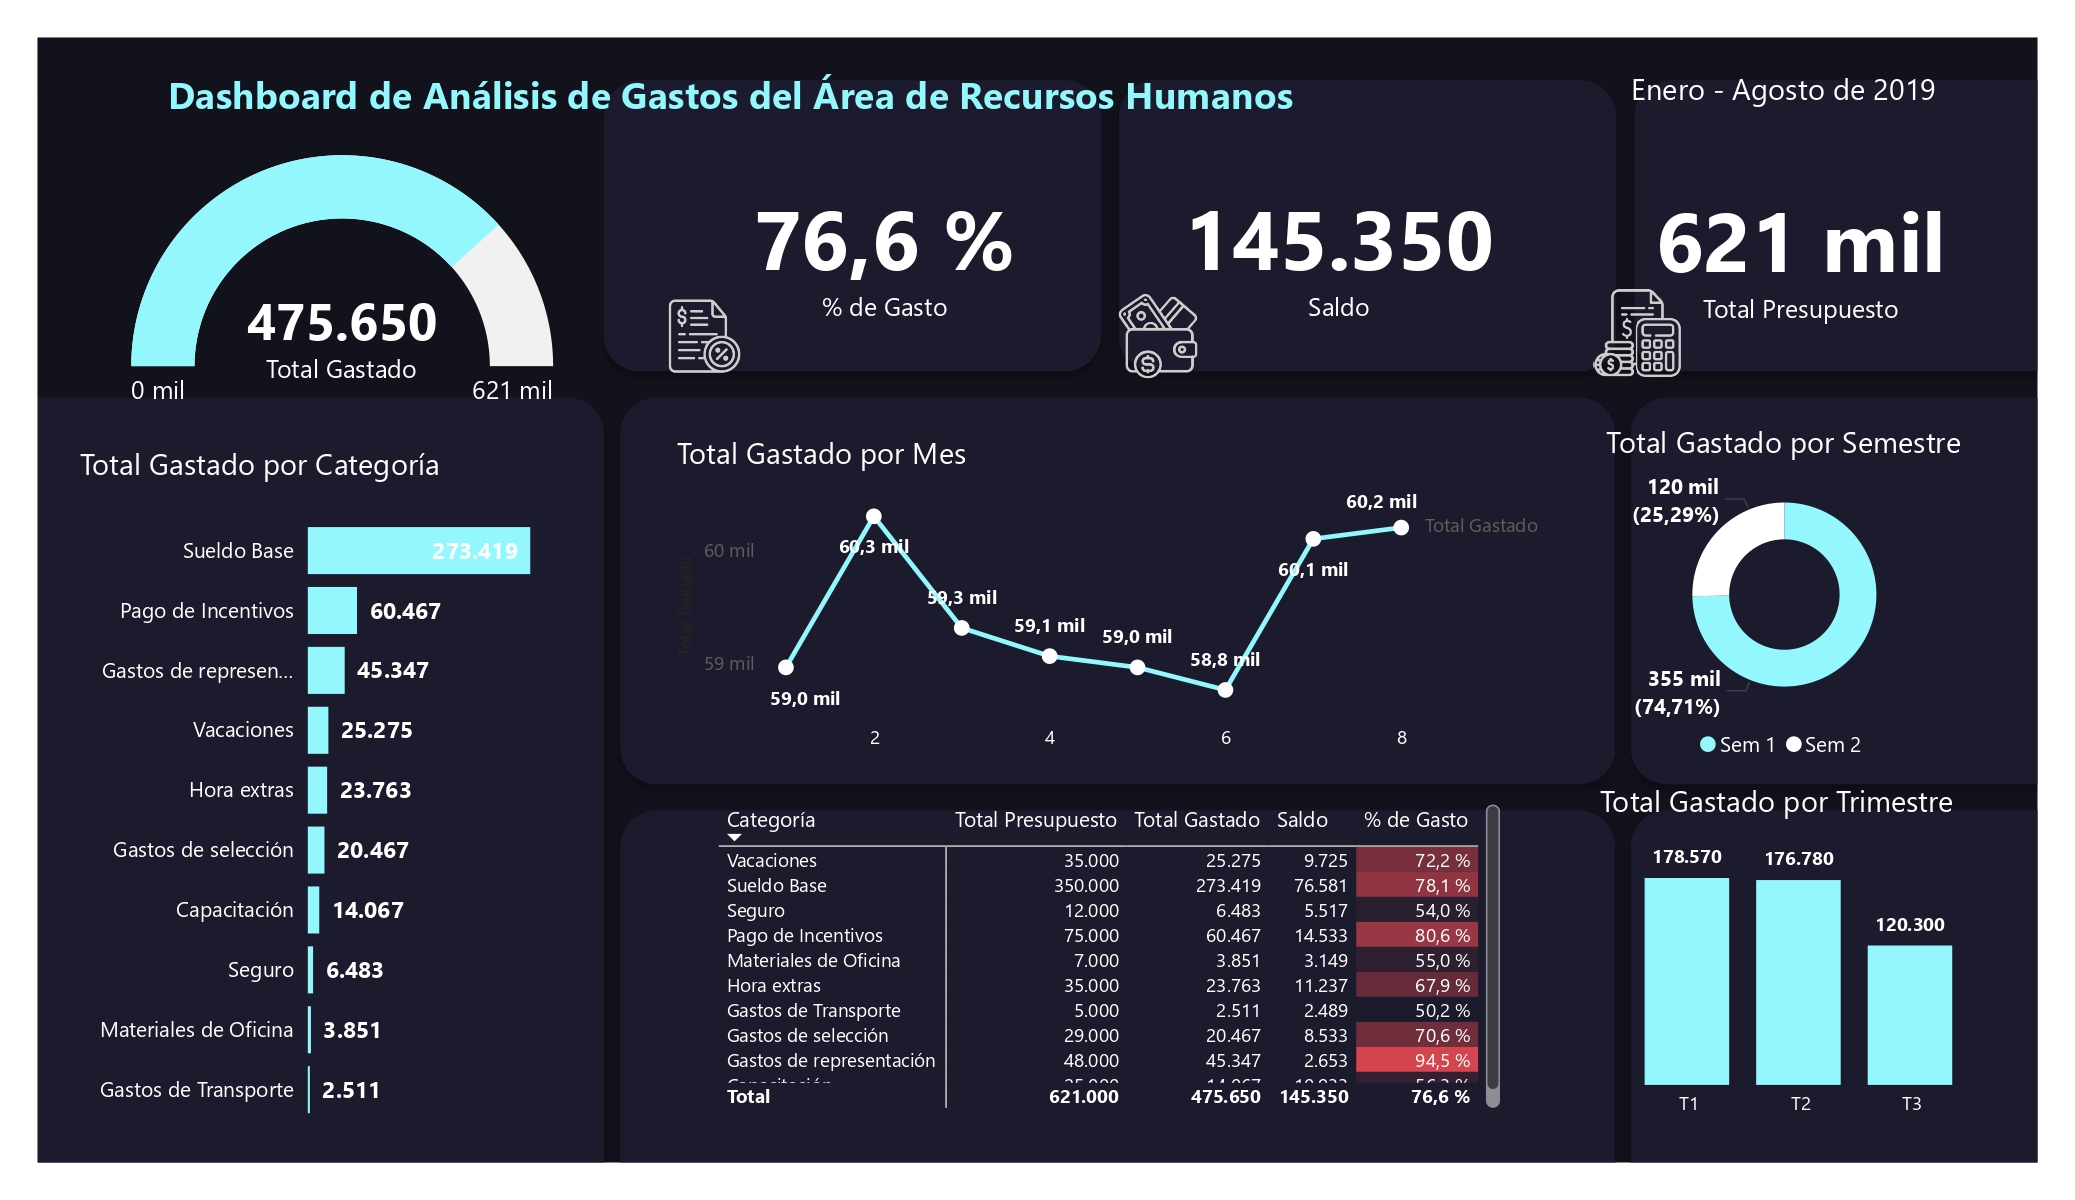

The page's visual inventory and layout, read from the dashboard file:
{"tool":"powerbi","page":{"name":"Panel","canvas":[1280,720],"ordinal":0},"visuals":[{"type":"gauge","fields":{"Y":["Gastos1.Total Gastado"],"MaxValue":["Presupuesto2.Total Presupuesto"]},"box":[55.3,70.4,279.6,177],"z":0},{"type":"textbox","box":[133.8,196.1,121.7,33.2],"z":1000},{"type":"card","fields":{"Values":["Gastos1.% de Gasto"]},"box":[443.5,61.4,196.1,151.9],"z":2000},{"type":"image","box":[392.3,159,69.2,64.1],"z":3000},{"type":"card","fields":{"Values":["Gastos1.Saldo"]},"box":[716.4,60.9,234,151.6],"z":4000},{"type":"image","box":[683.3,157.7,66.7,66.7],"z":5000},{"type":"card","fields":{"Values":["Presupuesto2.Total Presupuesto"]},"box":[999.3,61.6,258.6,152.2],"z":6000},{"type":"image","box":[990.8,154.7,66.5,67.7],"z":7000},{"type":"clusteredBarChart","fields":{"Category":["Presupuesto2.Categoría"],"Y":["Gastos1.Total Gastado"]},"box":[21.6,260.5,349.4,448.6],"z":8000},{"type":"lineChart","title":"Total Gastado por Mes","fields":{"Category":["Calendario.Mes Num"],"Y":["Gastos1.Total Gastado"]},"box":[404.1,252.9,564.2,213.5],"z":9000},{"type":"pivotTable","fields":{"Rows":["Presupuesto2.Categoría"],"Values":["Presupuesto2.Total Presupuesto","Gastos1.Total Gastado","Gastos1.Saldo","Gastos1.% de Gasto"]},"box":[430.8,485.9,510.3,203.8],"z":10000},{"type":"donutChart","fields":{"Category":["Calendario.Semestre"],"Y":["Gastos1.Total Gastado"]},"box":[998.7,246.2,238.5,224.4],"z":11000},{"type":"clusteredColumnChart","fields":{"Y":["Gastos1.Total Gastado"],"Category":["Calendario.Trimestre"]},"box":[994.9,475.6,266.7,224.4],"z":12000},{"type":"textbox","box":[1011.5,15.4,211.5,37.2],"z":14000},{"type":"textbox","box":[76.9,15.4,733.3,55.1],"z":14001}]}

Visuals, with their boxes on the page's 1280x720 design canvas (x1, y1, x2, y2). These are canvas units, not pixel positions in the 2075x1200 screenshot, which may show the page scaled, cropped or inside an application window:
gauge - Gastos1.Total Gastado x Presupuesto2.Total Presupuesto: crop(55, 70, 335, 247)
textbox: crop(134, 196, 256, 229)
card - Gastos1.% de Gasto: crop(444, 61, 640, 213)
image: crop(392, 159, 462, 223)
card - Gastos1.Saldo: crop(716, 61, 950, 212)
image: crop(683, 158, 750, 224)
card - Presupuesto2.Total Presupuesto: crop(999, 62, 1258, 214)
image: crop(991, 155, 1057, 222)
clusteredBarChart - Presupuesto2.Categoría x Gastos1.Total Gastado: crop(22, 260, 371, 709)
"Total Gastado por Mes" lineChart: crop(404, 253, 968, 466)
pivotTable - Presupuesto2.Categoría x Presupuesto2.Total Presupuesto: crop(431, 486, 941, 690)
donutChart - Calendario.Semestre x Gastos1.Total Gastado: crop(999, 246, 1237, 471)
clusteredColumnChart - Gastos1.Total Gastado x Calendario.Trimestre: crop(995, 476, 1262, 700)
textbox: crop(1012, 15, 1223, 53)
textbox: crop(77, 15, 810, 70)
